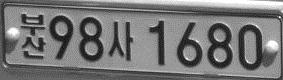0: (237, 23, 263, 70)
1: (146, 20, 172, 65)
6: (176, 21, 203, 67)
8: (206, 22, 233, 69), (78, 16, 104, 61)
9: (48, 14, 73, 59)
부산_V: (19, 13, 45, 59)
사: (108, 20, 133, 61)
